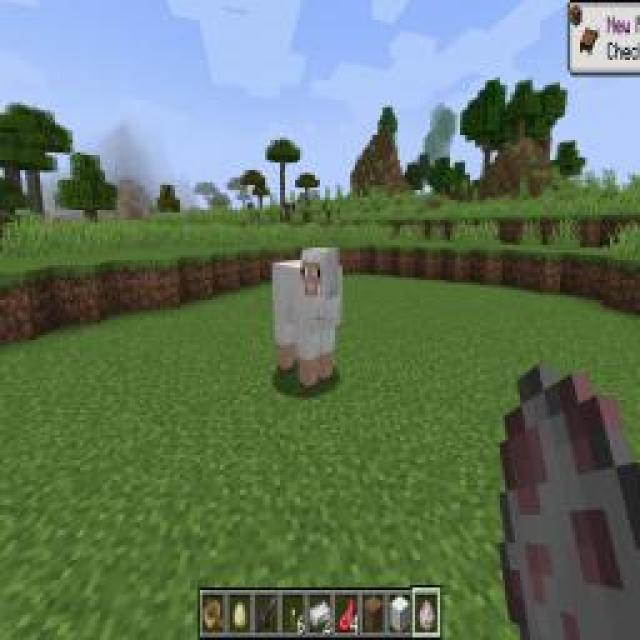Sheep: (271, 245, 344, 395)
